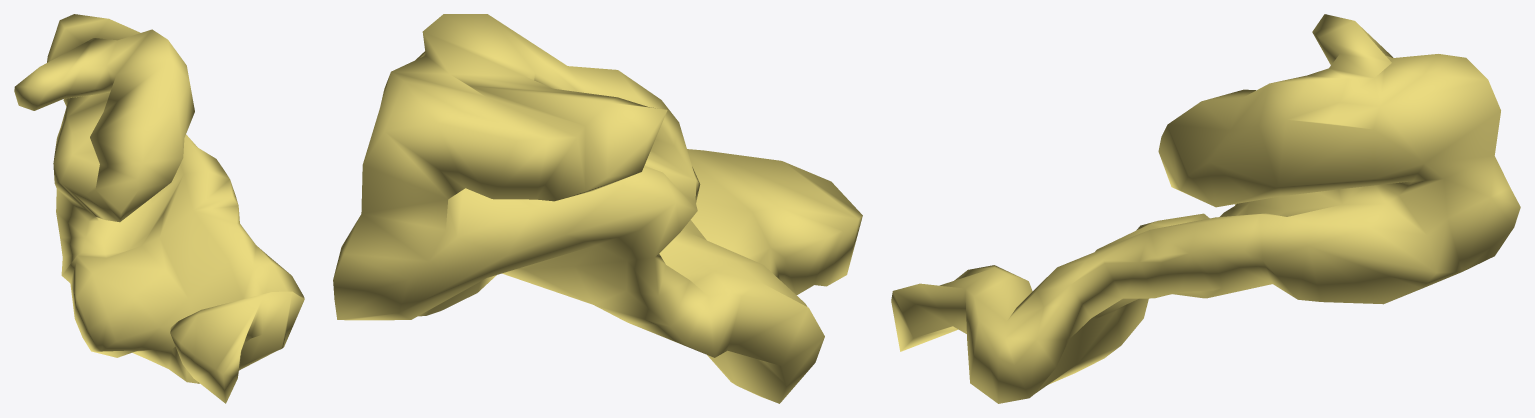
File: temporal-plane-l.glb
The picture shows the model from 3 angles, left to right: view 1: azimuth 30°, elevation 25°; view 2: azimuth 150°, elevation 25°; view 3: azimuth 270°, elevation 25°; orthographic projection. The views are drawn at different scales.
Parts seen in each view (by area): view 1: Temporal plane.l; view 2: Temporal plane.l; view 3: Temporal plane.l.
Part boxes in pixels (bbox=[...]): Temporal plane.l: bbox=[14, 14, 304, 403]; Temporal plane.l: bbox=[333, 14, 862, 403]; Temporal plane.l: bbox=[891, 14, 1520, 403].
Size of the model in its own units: 0.0206 by 0.0274 by 0.0438.
